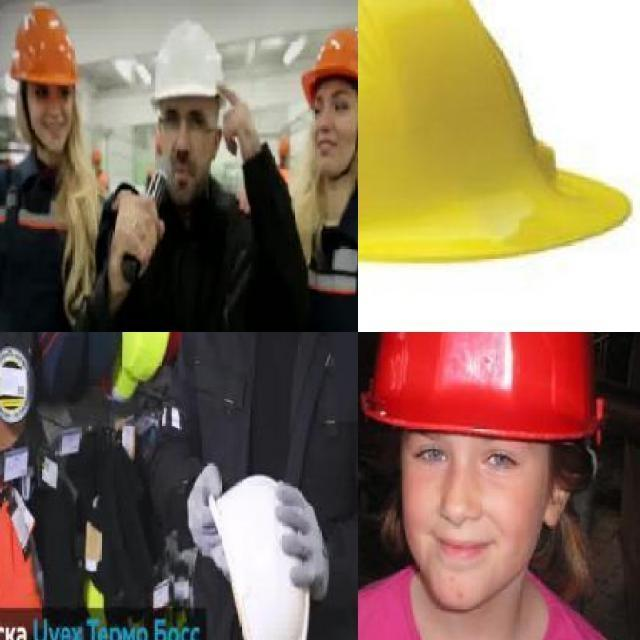apron: (274, 474, 334, 602), (186, 460, 222, 554)
